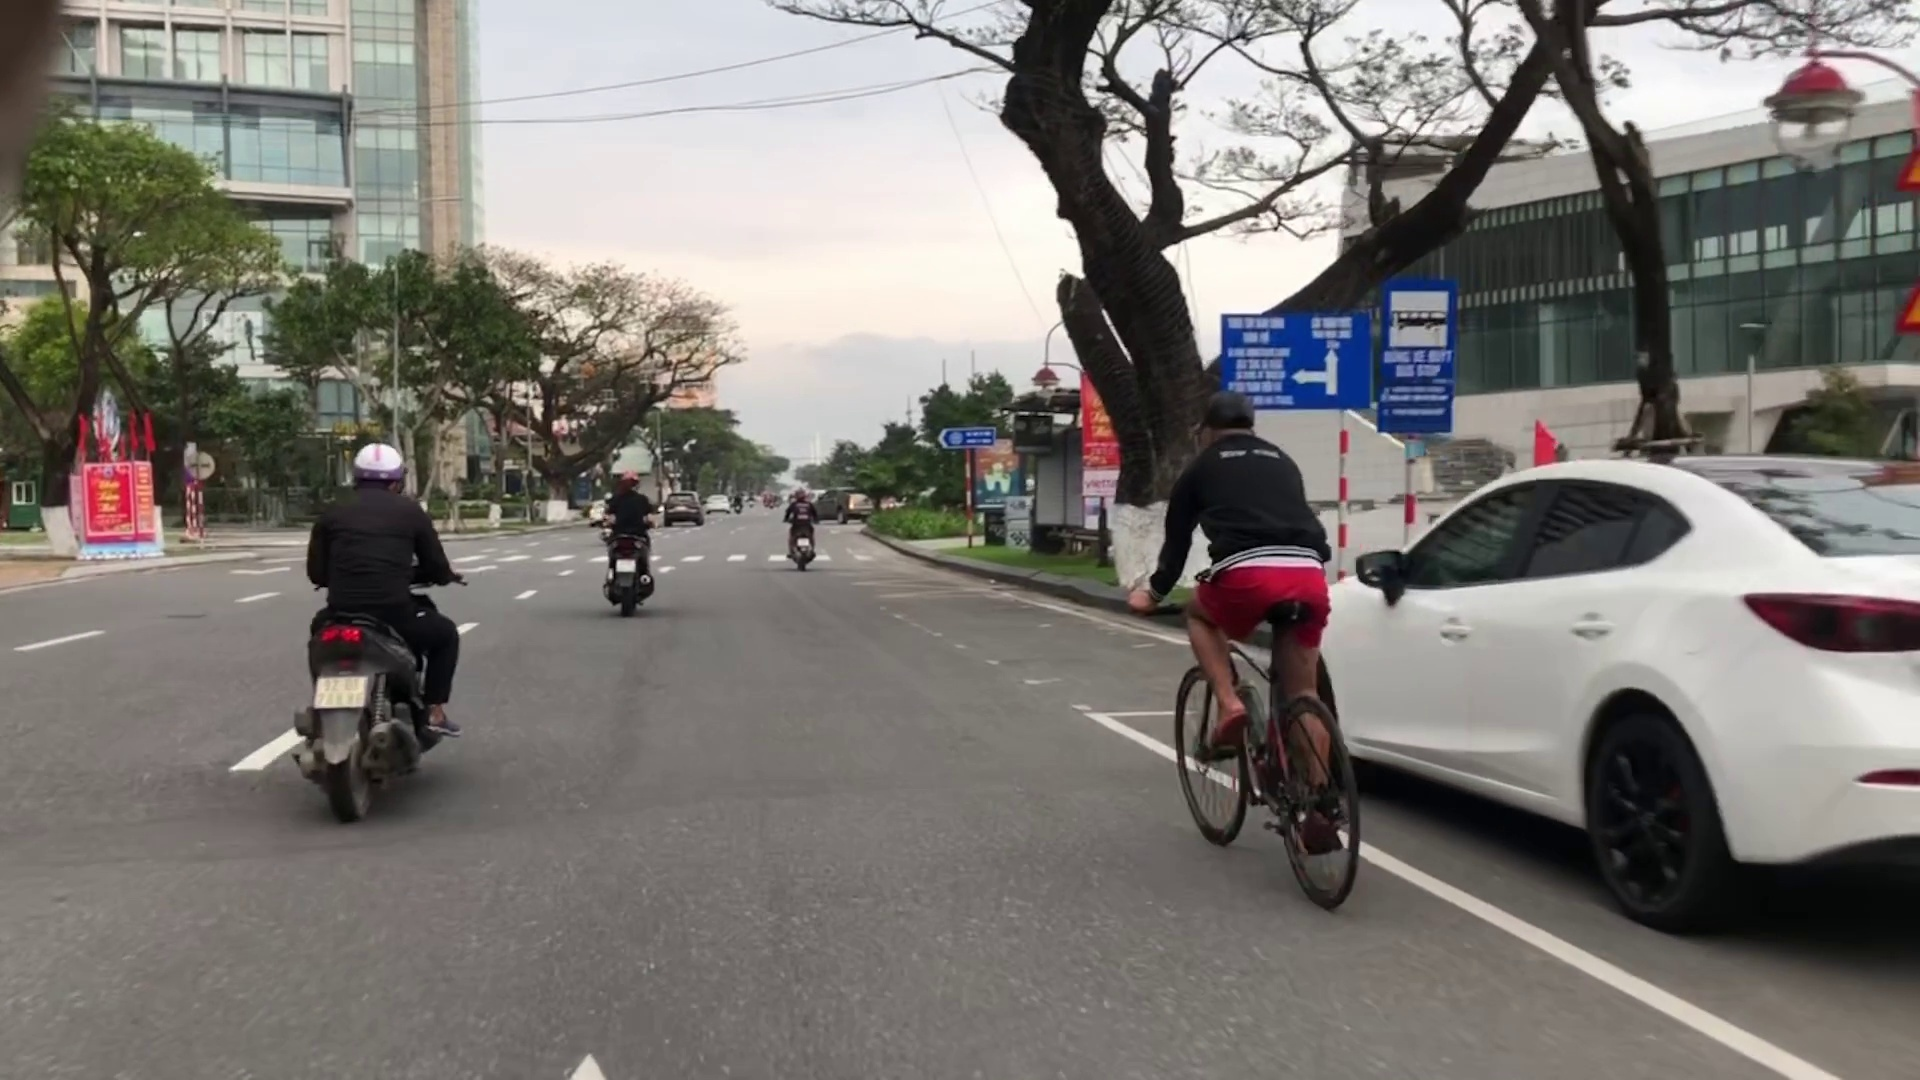Bien khac: (1222, 315, 1370, 414), (1377, 280, 1452, 430)
